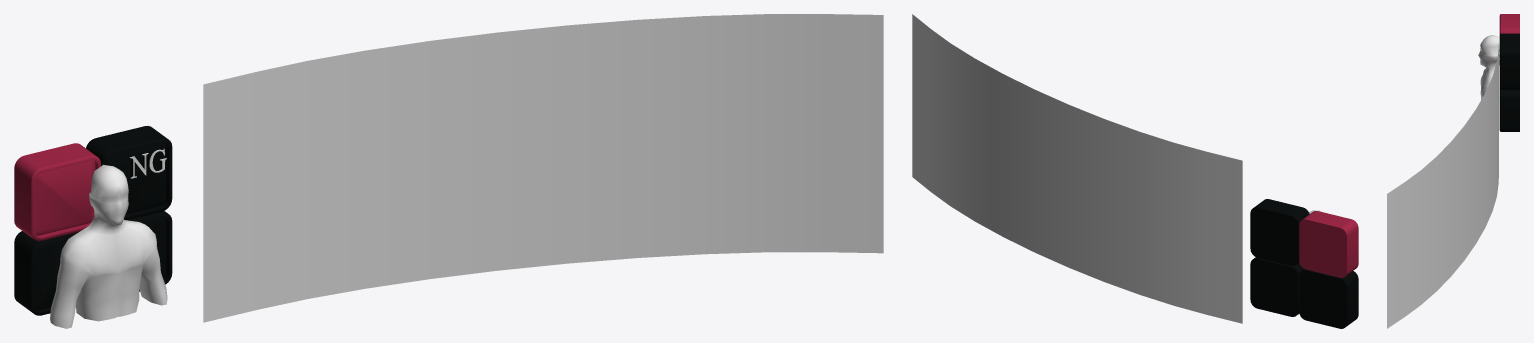
File: BiomedSim3D.fbx
The picture shows the model from 3 angles, left to right: view 1: azimuth 30°, elevation 25°; view 2: azimuth 150°, elevation 25°; view 3: azimuth 270°, elevation 25°; orthographic projection. The views are drawn at different scales.
Visible parts, largest first — view 1: TitlePlane, Cubes, Human; view 2: TitlePlane, Cubes; view 3: TitlePlane, Cubes, Human.
Part boxes in pixels (x1,y1,x2,y2): TitlePlane: (203,14,883,322); Cubes: (14,126,172,315); Human: (50,164,167,328); TitlePlane: (912,14,1242,323); Cubes: (1250,199,1358,328); TitlePlane: (1387,43,1498,328); Cubes: (1499,14,1519,131); Human: (1478,35,1498,99).
Size of the model in its own units: 1078 by 326 by 291.
